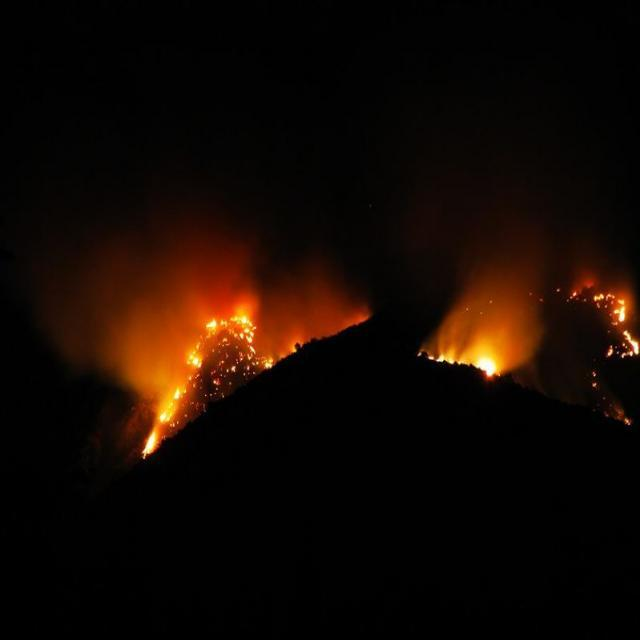Fire: (137, 300, 280, 459), (571, 280, 639, 357), (408, 344, 502, 382)
